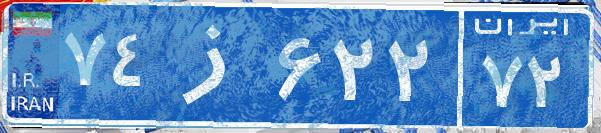2: (385, 28, 445, 110), (330, 28, 385, 110), (525, 38, 570, 115)
4: (110, 28, 158, 105)
6: (273, 28, 330, 110)
7: (57, 26, 110, 107), (475, 38, 525, 113)
ز: (158, 15, 273, 115)
